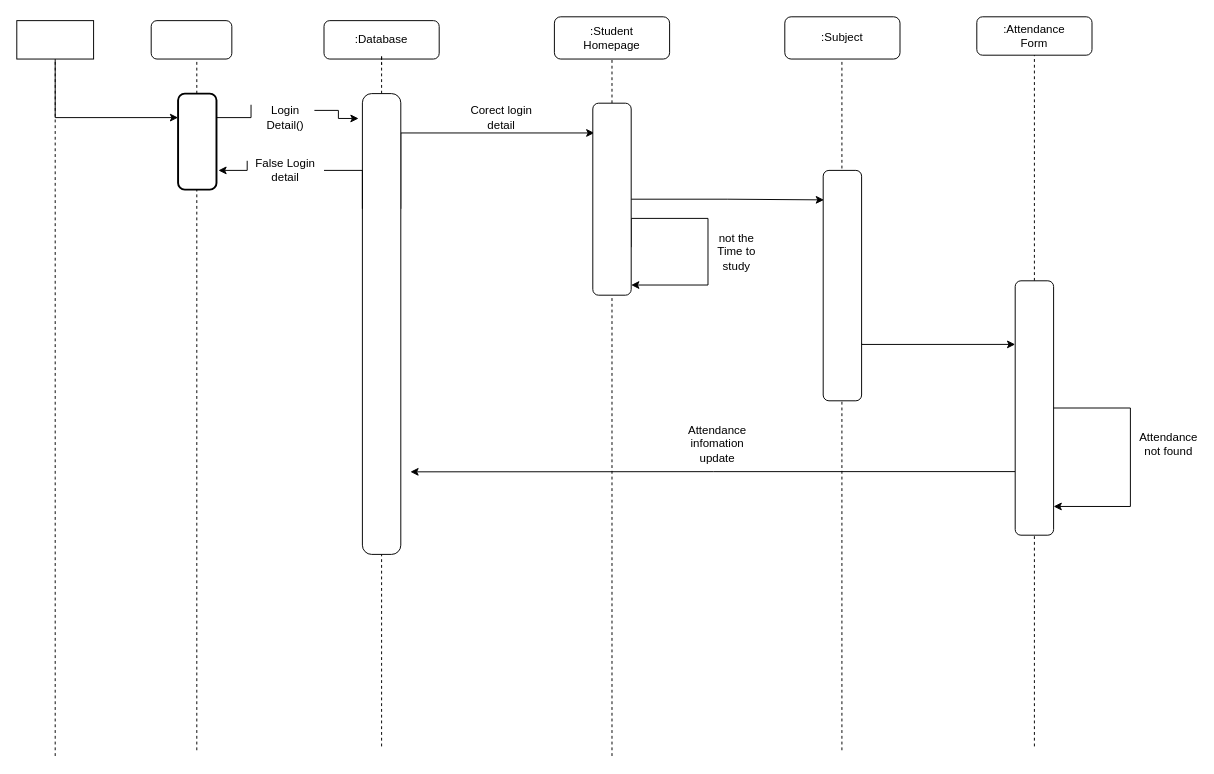
The diagram is 1214 pixels wide and 774 high, and some of its shapes have lost their labels. Here are the shapes that lost their labels. From the top down, the box of each, then its label:
(16, 20, 94, 59): :Student
(150, 20, 232, 59): :Login
